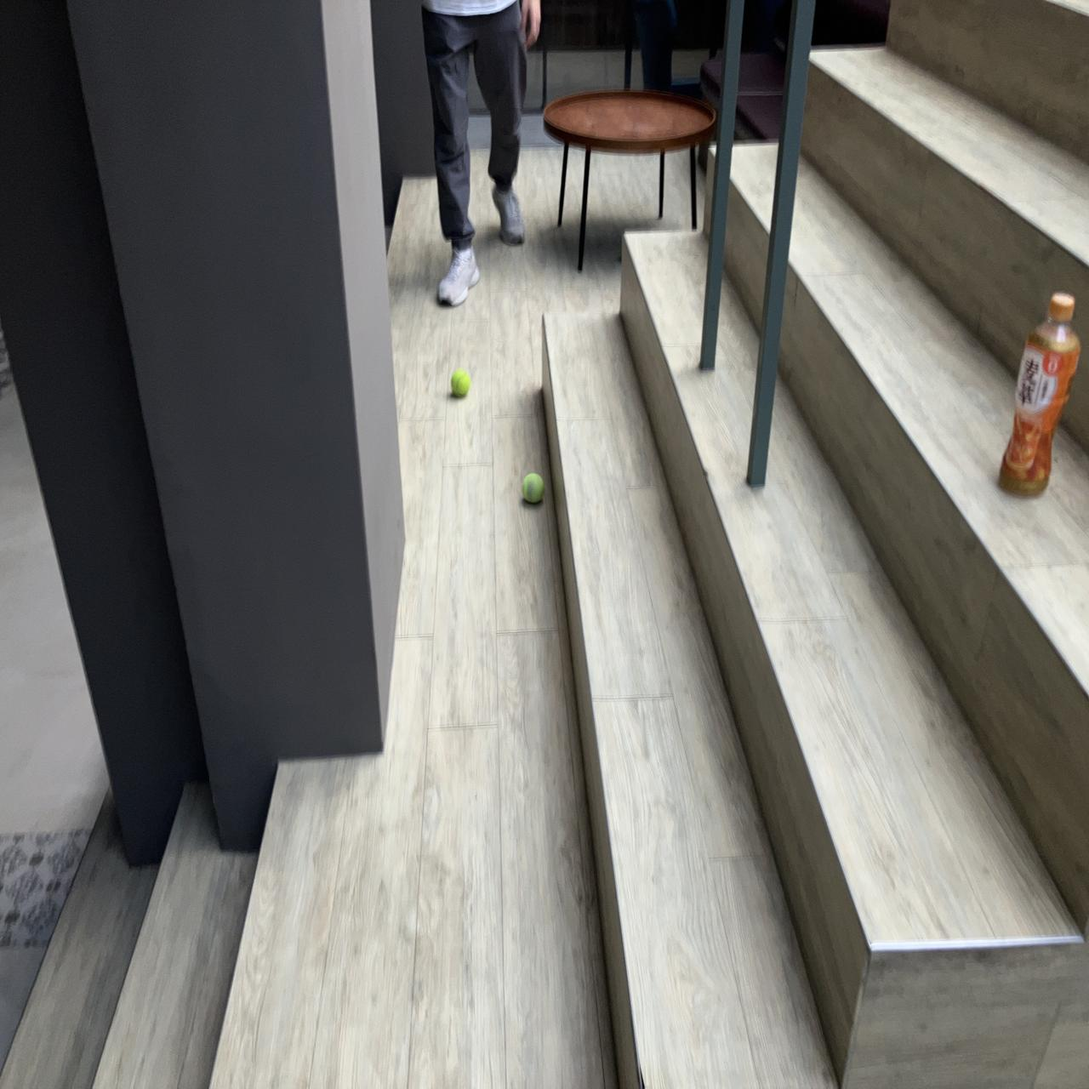person: (420, 0, 541, 310)
plastic-bottle: (1000, 294, 1080, 495)
tennisball: (522, 473, 544, 504), (450, 368, 471, 398)
